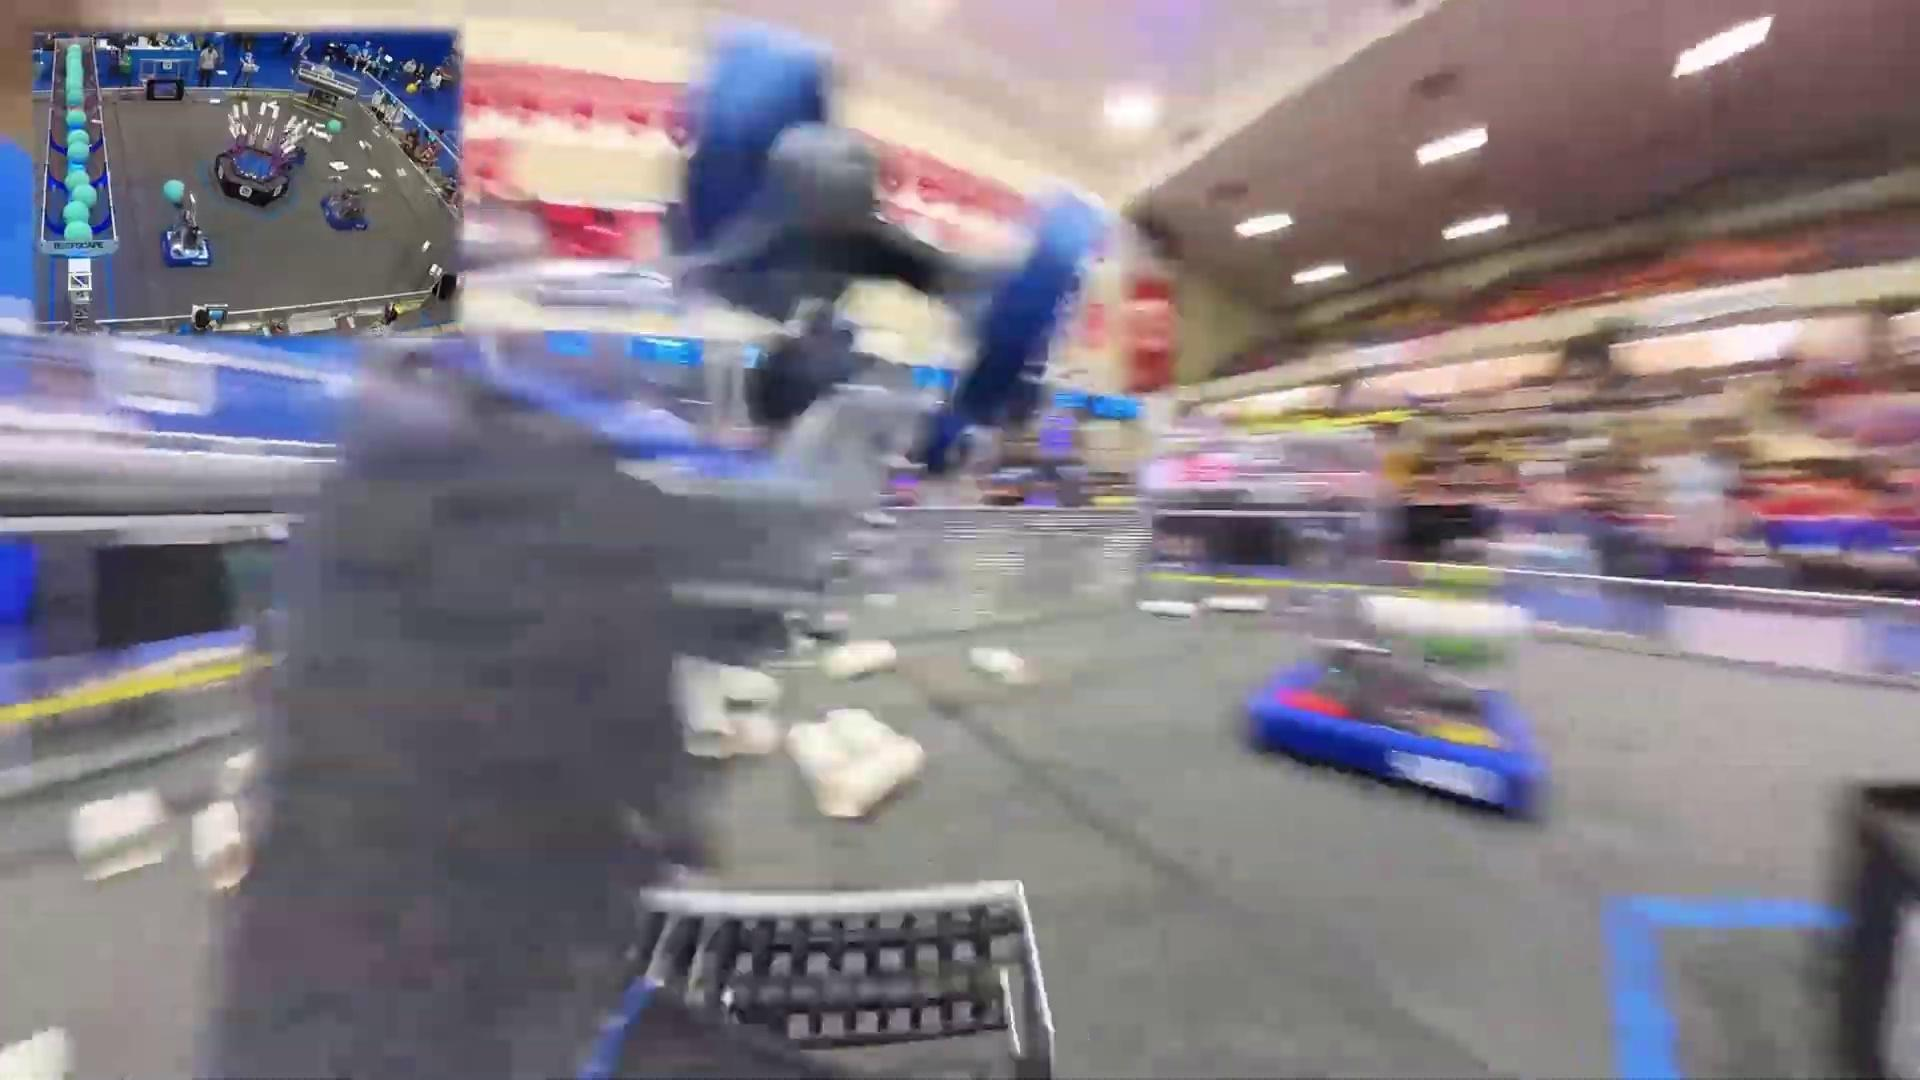robot: (1241, 609, 1545, 822), (161, 182, 214, 269), (320, 186, 367, 235)
